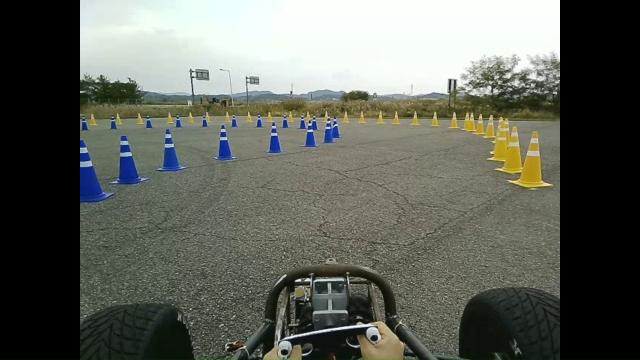blue cone: (79, 139, 114, 202), (108, 134, 149, 185), (154, 128, 187, 171), (212, 124, 238, 161), (264, 121, 286, 154), (300, 118, 320, 147), (320, 119, 336, 143), (331, 116, 341, 138)
yellow cone: (513, 128, 553, 188), (483, 114, 495, 139), (473, 113, 485, 135), (465, 112, 476, 132), (448, 111, 459, 129), (462, 111, 470, 130), (409, 110, 419, 125), (430, 110, 439, 126), (376, 110, 384, 124), (392, 111, 400, 124), (358, 111, 366, 123), (342, 111, 349, 123)
